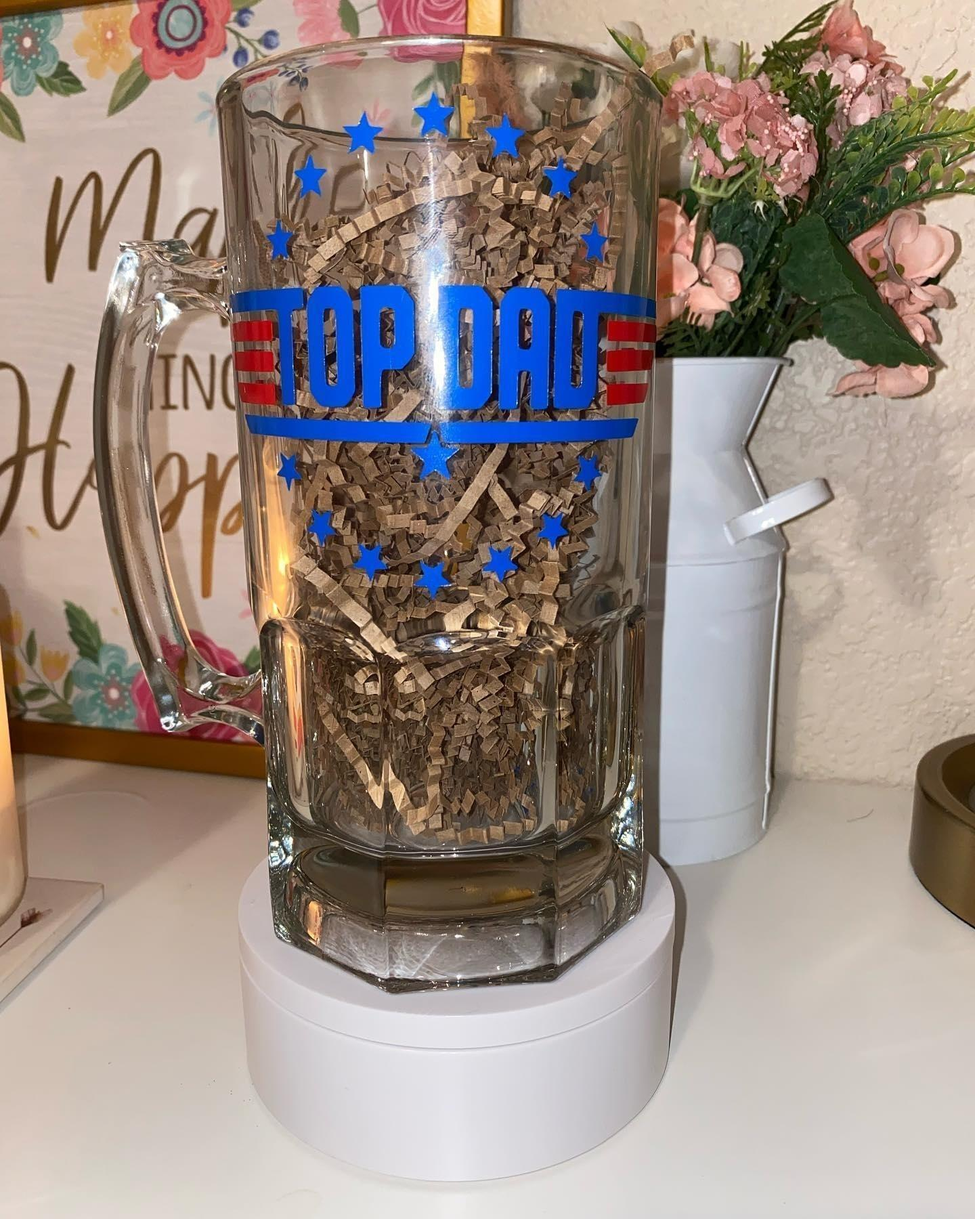glass-mug: (84, 26, 686, 991)
